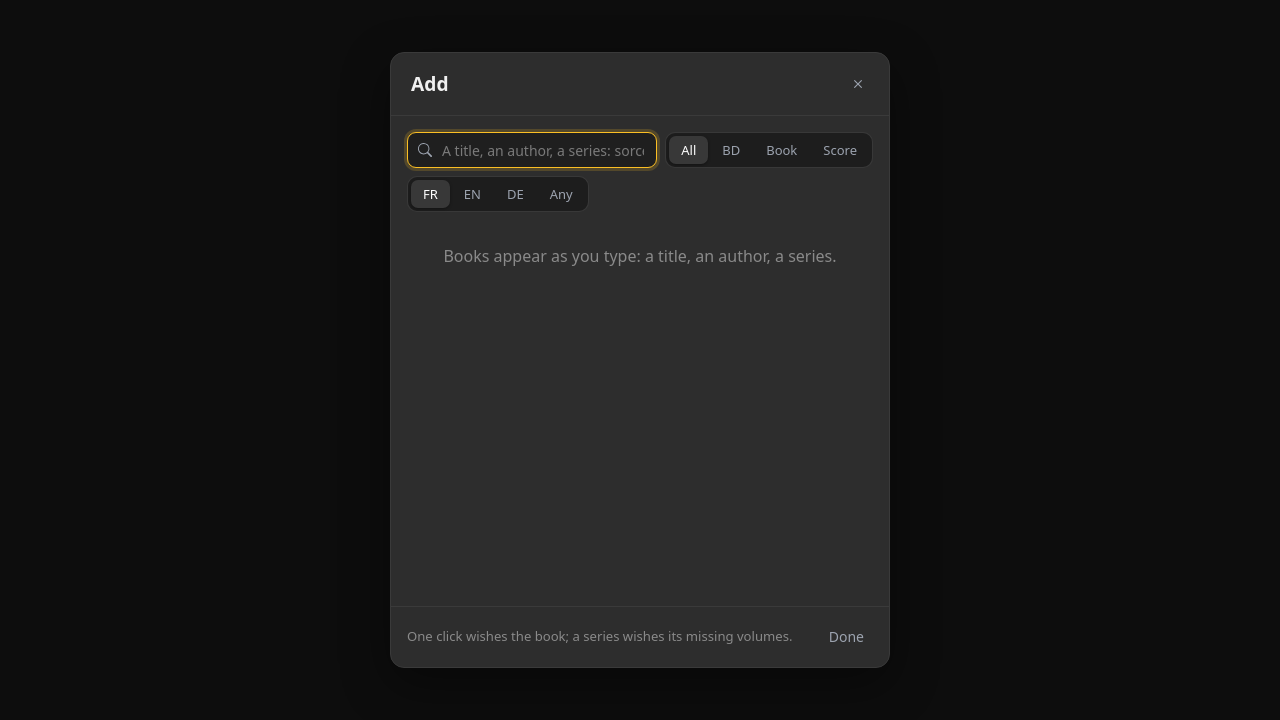
Test: BookFinder › trouve les livres pendant la frappe, ce qu’on en a, et les pastilles de série et d’auteur
Replace the text in the field named "search for a book" with "sorceline" at (532, 150), box [407,132,657,168]
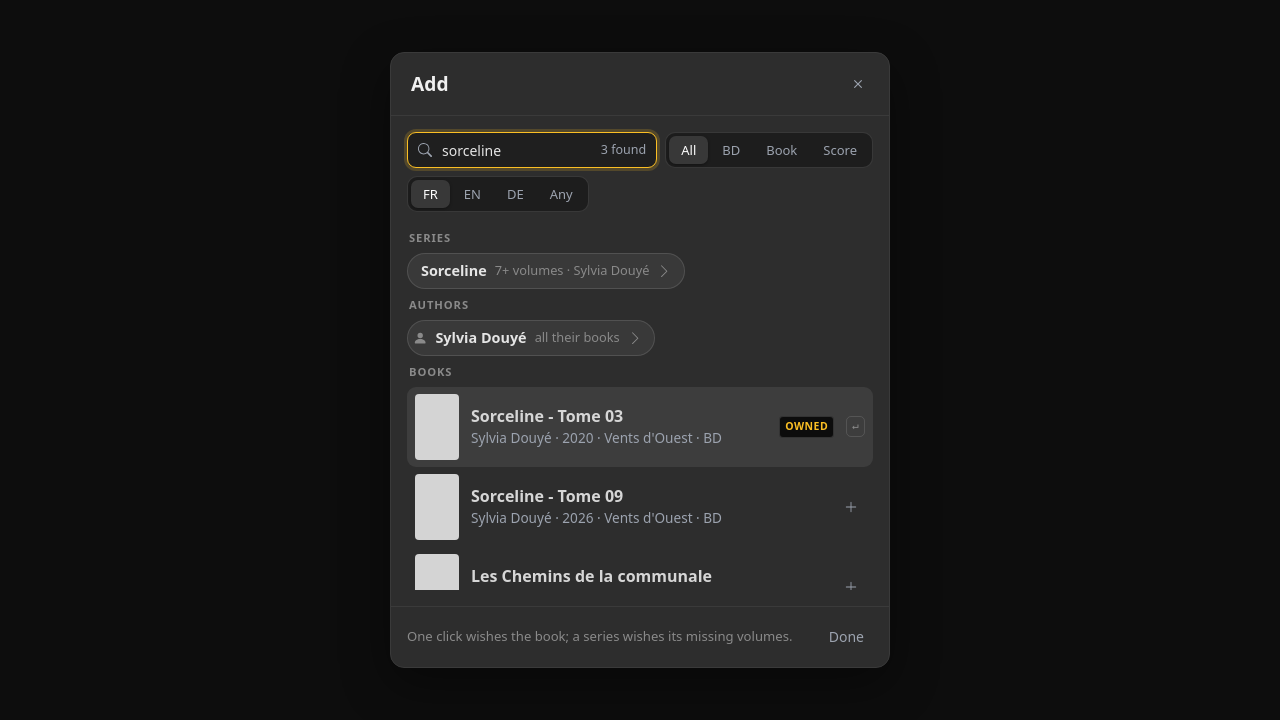
Result: the text "Sorceline - Tome 09" is shown at [471,485,623,507]
Result: the text "Owned" is shown at [779,416,834,438]
Result: the button titled "The volumes of Sorceline" is shown at [407,253,685,289]
